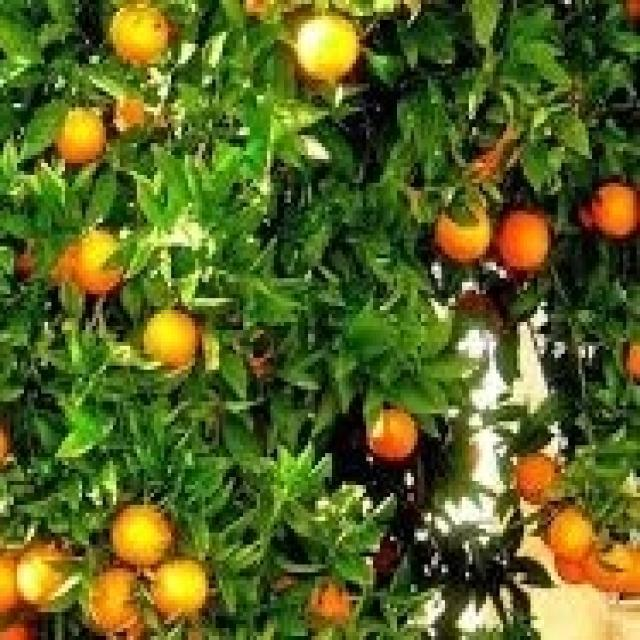Orange: (428, 174, 503, 274), (11, 520, 92, 612), (280, 3, 360, 84), (483, 202, 561, 282), (127, 298, 206, 370), (102, 496, 178, 568), (55, 218, 126, 294), (38, 99, 114, 167), (137, 556, 212, 624), (575, 516, 633, 600), (291, 552, 349, 632), (352, 390, 420, 458), (108, 1, 173, 70), (503, 437, 565, 505), (82, 560, 140, 628), (544, 492, 596, 560), (92, 80, 148, 140), (582, 174, 636, 234), (602, 326, 636, 382)
